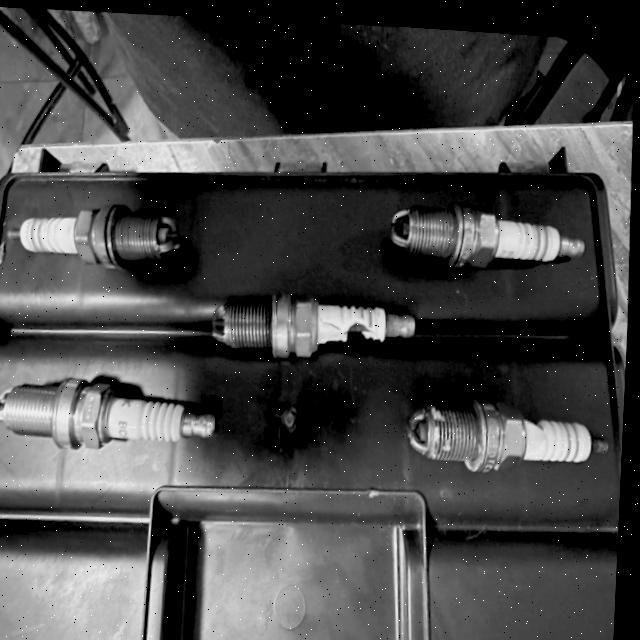damaged_spark-plug: (411, 393, 606, 462), (213, 289, 415, 349)
spark-plug: (0, 379, 215, 448), (390, 195, 587, 259), (2, 202, 180, 268)
